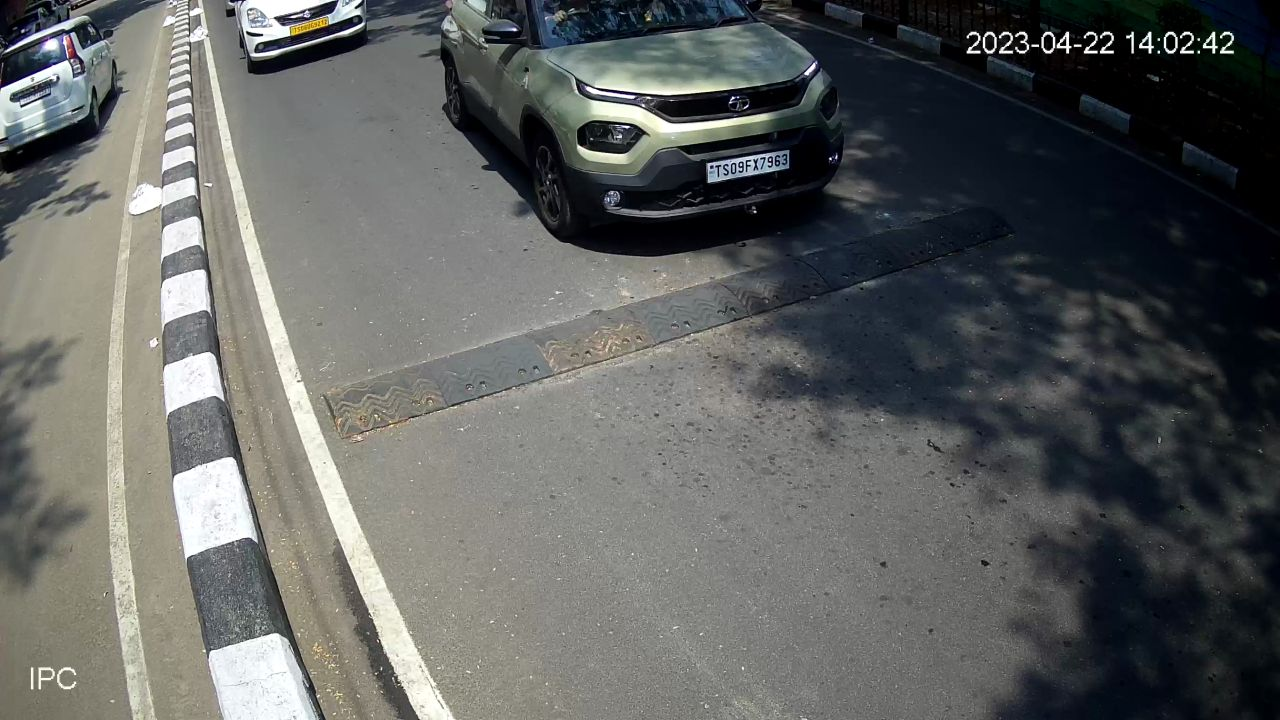license_plate: (702, 143, 797, 191), (283, 10, 333, 41)
